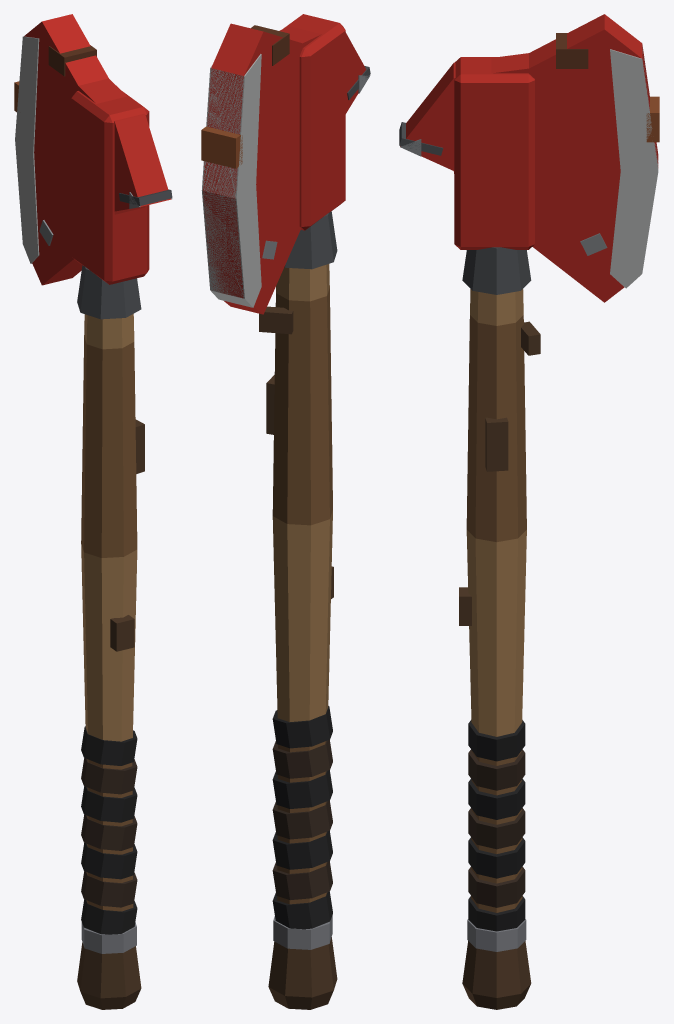
The model's file is melee_fire_axe.fbx.
3 renders of one model, left to right at view 1: azimuth 30°, elevation 25°; view 2: azimuth 150°, elevation 25°; view 3: azimuth 270°, elevation 25°, orthographic. The views are drawn at different scales.
Visible parts, largest first — view 1: melee_fire_axe; view 2: melee_fire_axe; view 3: melee_fire_axe.
Part boxes in pixels (<box>): melee_fire_axe: <box>14,14,172,1009</box>; melee_fire_axe: <box>201,14,370,1009</box>; melee_fire_axe: <box>399,14,659,1009</box>.
Size of the model in its own units: 0.0663 by 1 by 0.2414.
